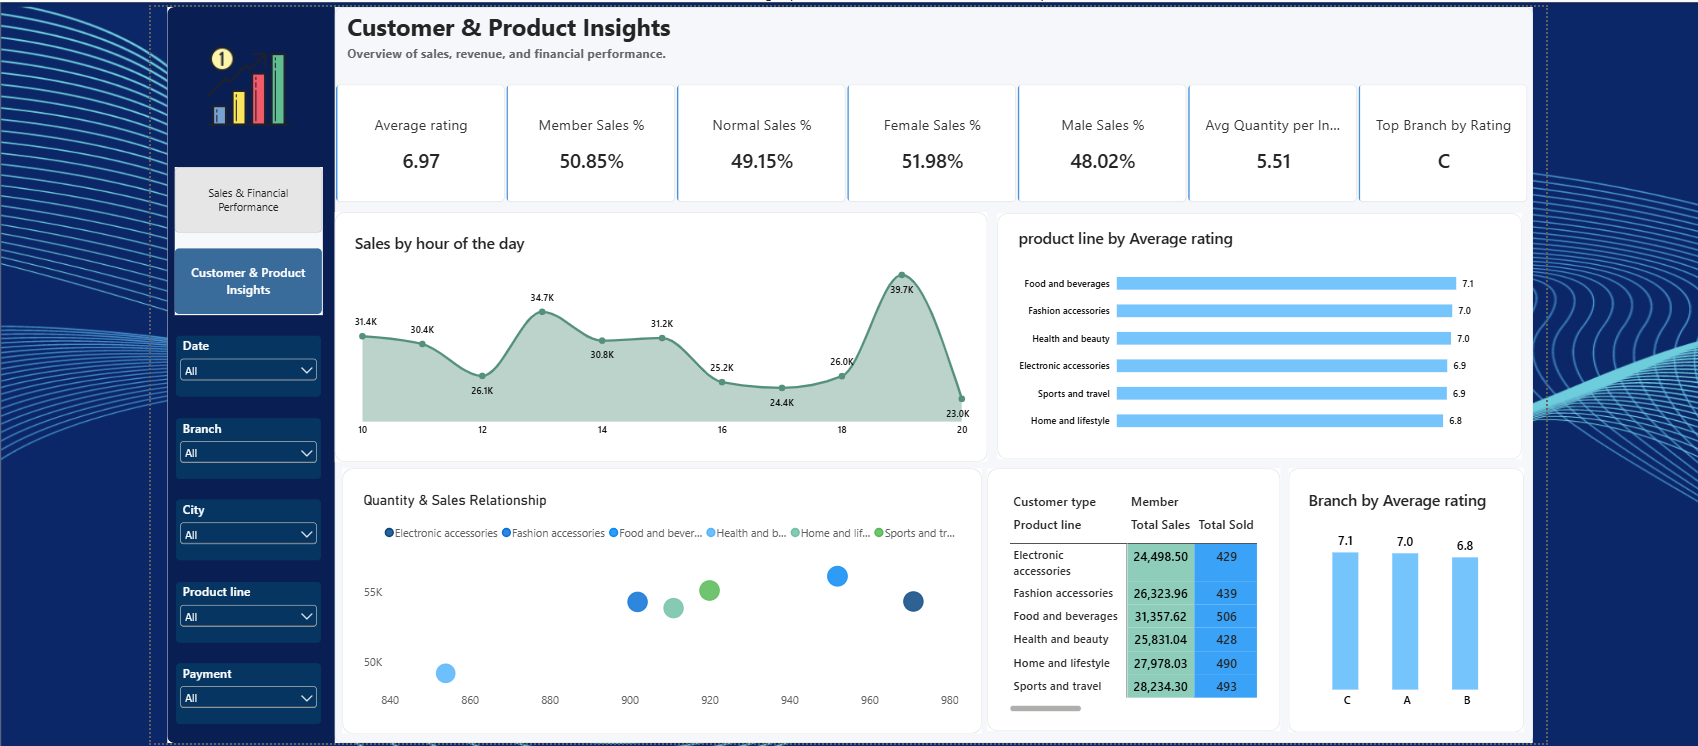

The dashboard page shown, as its layout file describes it:
{"tool":"powerbi","page":{"name":"Customer & Product Insights","canvas":[1800,950],"ordinal":1},"visuals":[{"type":"shape","box":[21.3,0,279.6,950],"z":0},{"type":"shape","box":[236.7,0,1546.8,950],"z":1000},{"type":"cardVisual","fields":{"Data":["supermarket.Average rating","supermarket.Member Sales %","supermarket.Normal Sales %","supermarket.Female Sales %","supermarket.Male Sales %","supermarket.Average Quantity per Invoice","supermarket.Top Branch by Rating"]},"box":[236.7,98,1546.8,155.5],"z":2000},{"type":"shape","box":[1469,596.1,303.9,341.1],"z":3000},{"type":"columnChart","title":" Branch by Average rating","fields":{"Category":["supermarket.Branch"],"Y":["supermarket.Average rating"]},"box":[1477.5,607.9,287.1,317.4],"z":4000},{"type":"shape","box":[1092.5,266.8,677.1,317.4],"z":5000},{"type":"barChart","title":"product line by Average rating","fields":{"Category":["supermarket.Product line"],"Y":["supermarket.Average rating"]},"box":[1104.3,270.2,651.8,303.9],"z":6000},{"type":"slicer","fields":{"Values":["supermarket.Date"]},"box":[33.1,424.2,187.4,78.5],"z":7000},{"type":"slicer","fields":{"Values":["supermarket.Branch"]},"box":[33.1,530,187.4,78.5],"z":8000},{"type":"slicer","fields":{"Values":["supermarket.City"]},"box":[33.1,635.9,187.4,78.5],"z":9000},{"type":"slicer","fields":{"Values":["supermarket.Product line"]},"box":[33.1,741.8,187.4,78.5],"z":10000},{"type":"slicer","fields":{"Values":["supermarket.Payment"]},"box":[33.1,847.7,187.4,78.5],"z":11000},{"type":"cardVisual","fields":{"Data":["supermarket.Dahboard Title."]},"box":[237.1,0,493.8,76.9],"z":12000},{"type":"image","box":[32.1,35.5,187.4,140.2],"z":13000},{"type":"shape","box":[236.4,265.1,842.6,322.5],"z":14000},{"type":"areaChart","title":"Sales by hour of the day","fields":{"Category":["supermarket.Hour"],"Y":["supermarket.Total Sales"]},"box":[246.5,275.2,825.7,298.9],"z":15000},{"type":"shape","box":[246.5,596.1,825.7,342.8],"z":16000},{"type":"scatterChart","title":"Quantity & Sales Relationship","fields":{"Series":["supermarket.Product line"],"Size":["supermarket.Total Sales"],"X":["supermarket.Total quantity sold"],"Y":["supermarket.Total Sales"]},"box":[258.3,611.3,800.4,314.1],"z":17000},{"type":"shape","box":[1079,596.1,378.2,339.4],"z":18000},{"type":"pivotTable","fields":{"Columns":["supermarket.Customer type"],"Rows":["supermarket.Product line"],"Values":["supermarket.Total Sales","supermarket.Total quantity sold","supermarket.Average rating"]},"box":[1092.5,607.9,351.2,317.4],"z":19000},{"type":"pageNavigator","box":[31.3,206,190.8,190.8],"z":20000}]}

Visuals, with their boxes on the page's 1800x950 design canvas (x1, y1, x2, y2). These are canvas units, not pixel positions in the 1698x746 screenshot, which may show the page scaled, cropped or inside an application window:
shape: rect(21, 0, 301, 950)
shape: rect(237, 0, 1784, 950)
cardVisual - supermarket.Average rating x supermarket.Member Sales %: rect(237, 98, 1784, 254)
shape: rect(1469, 596, 1773, 937)
" Branch by Average rating" columnChart: rect(1478, 608, 1765, 925)
shape: rect(1092, 267, 1770, 584)
"product line by Average rating" barChart: rect(1104, 270, 1756, 574)
slicer - supermarket.Date: rect(33, 424, 220, 503)
slicer - supermarket.Branch: rect(33, 530, 220, 608)
slicer - supermarket.City: rect(33, 636, 220, 714)
slicer - supermarket.Product line: rect(33, 742, 220, 820)
slicer - supermarket.Payment: rect(33, 848, 220, 926)
cardVisual - supermarket.Dahboard Title.: rect(237, 0, 731, 77)
image: rect(32, 36, 220, 176)
shape: rect(236, 265, 1079, 588)
"Sales by hour of the day" areaChart: rect(246, 275, 1072, 574)
shape: rect(246, 596, 1072, 939)
"Quantity & Sales Relationship" scatterChart: rect(258, 611, 1059, 925)
shape: rect(1079, 596, 1457, 936)
pivotTable - supermarket.Customer type x supermarket.Product line: rect(1092, 608, 1444, 925)
pageNavigator: rect(31, 206, 222, 397)
